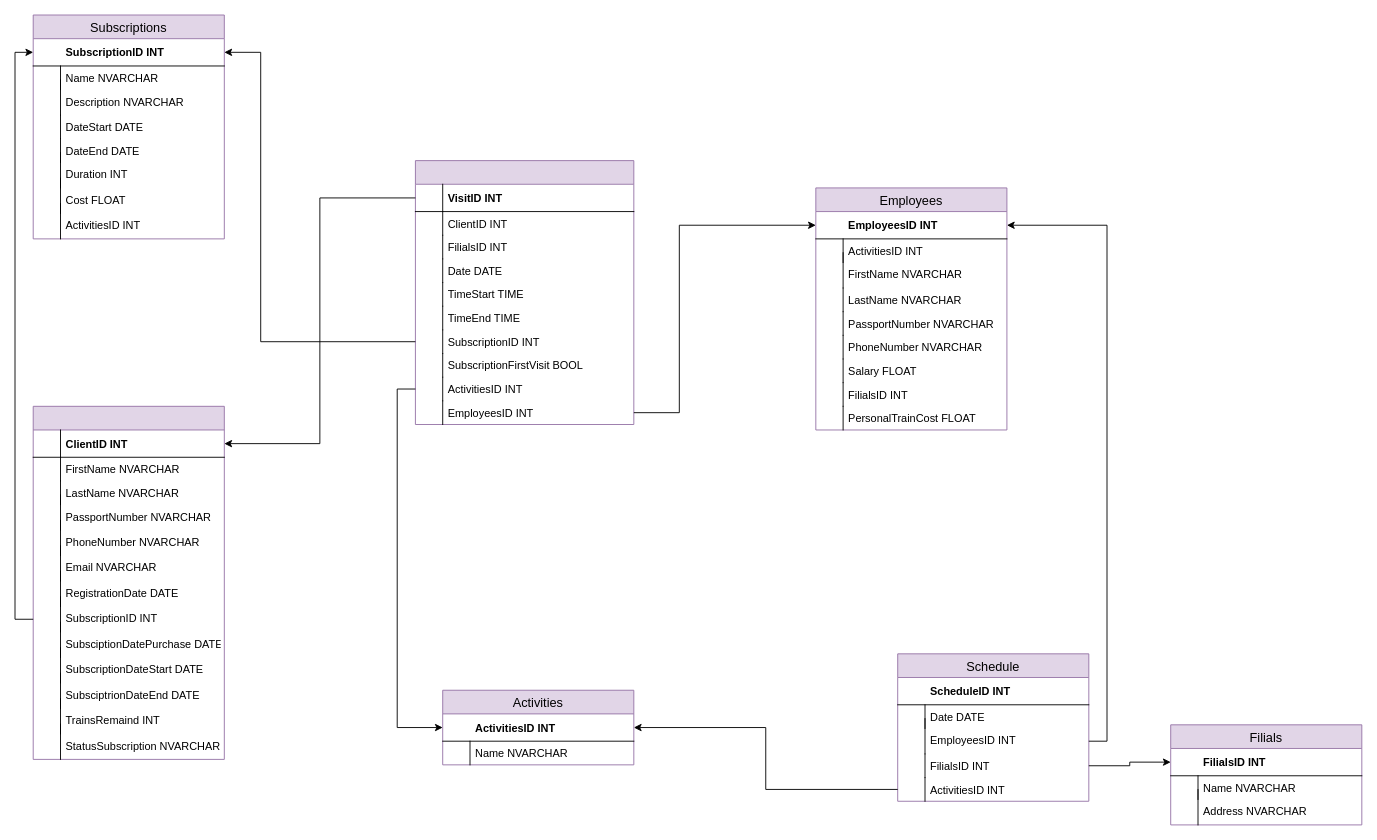
The diagram is 1377 pixels wide and 840 high, and some of its shapes have lost their labels. The box of each missing label's shape, as (x1, y1, x2, y2) in pixels:
Clients: (32, 405, 224, 759)
Visits: (415, 160, 634, 425)
